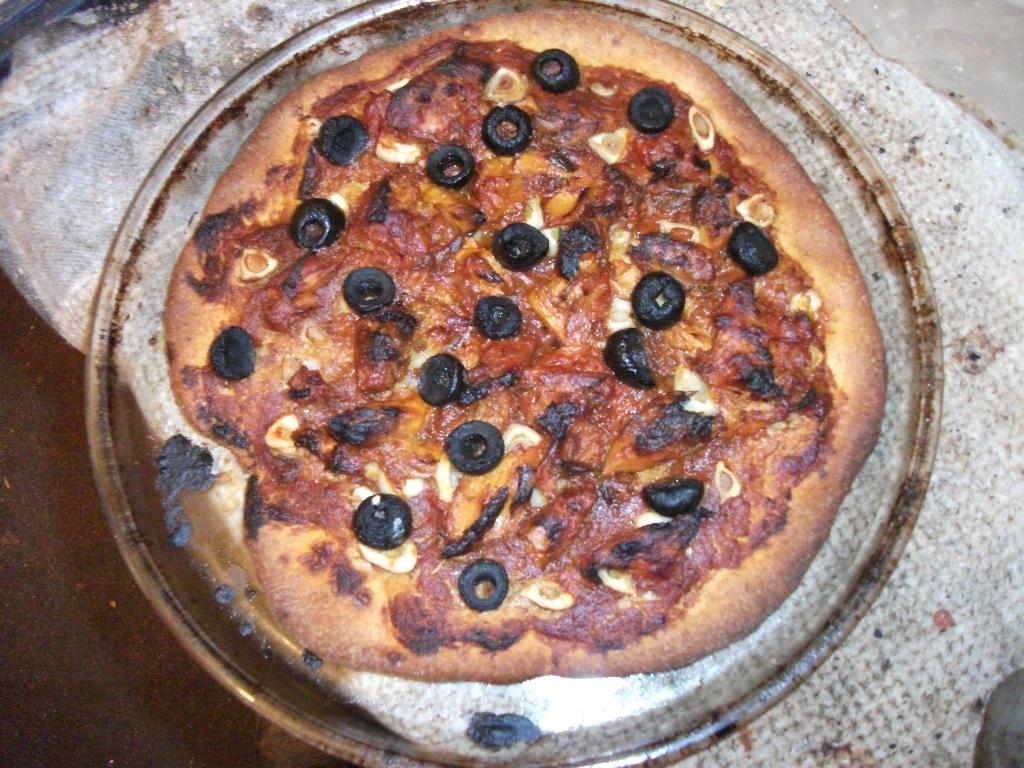Pizza: (105, 0, 928, 753)
